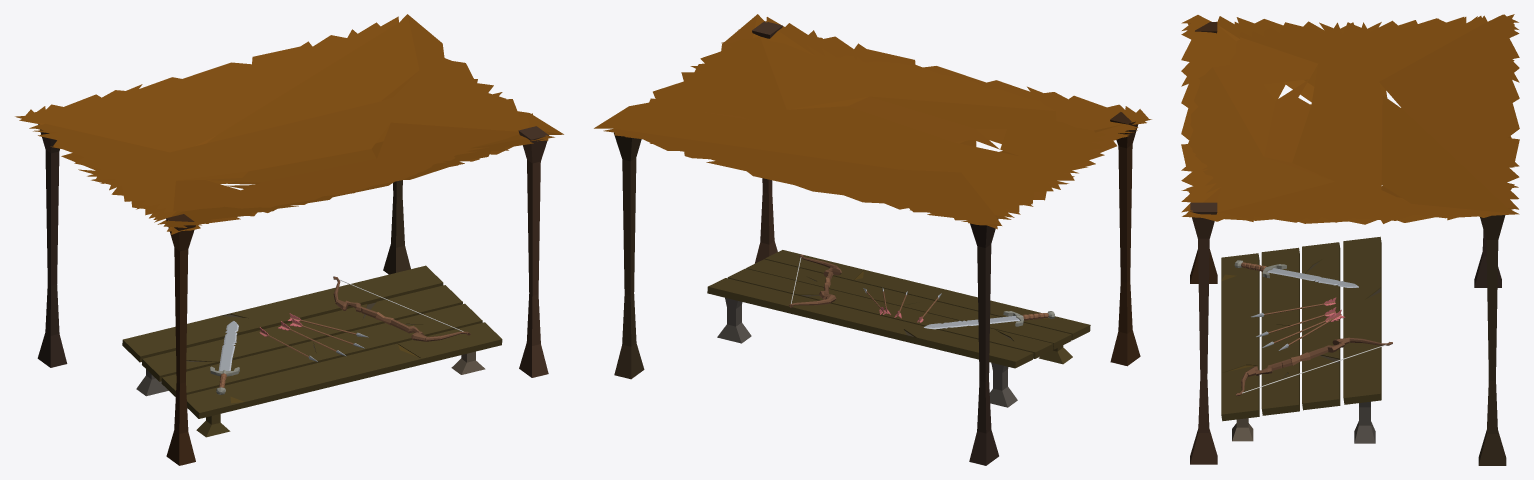
The model's file is ShopkeeperNew2.fbx.
The picture shows the model from 3 angles, left to right: view 1: azimuth 30°, elevation 25°; view 2: azimuth 150°, elevation 25°; view 3: azimuth 270°, elevation 25°; orthographic projection. The views are drawn at different scales.
Visible parts, largest first — view 1: Plane.002, Cube.003, Plane.001, Cube, Cube.001, Cube.004, Cube.002, Bow_Wooden2, Sword; view 2: Plane.002, Cube.003, Plane.001, Cube.002, Cube.001, Cube.004, Cube, Sword, Bow_Wooden2; view 3: Plane.002, Cube.003, Plane.001, Cube, Cube.002, Bow_Wooden2, Sword, Cube.001, Cube.004.
Boxes of the visible parts, left/top/right/bottom form: Plane.002: left=22, top=14, right=548, bottom=234; Cube.003: left=122, top=265, right=502, bottom=437; Plane.001: left=15, top=58, right=563, bottom=227; Cube: left=518, top=126, right=549, bottom=377; Cube.001: left=166, top=214, right=195, bottom=465; Cube.004: left=37, top=124, right=67, bottom=367; Cube.002: left=383, top=180, right=410, bottom=274; Bow_Wooden2: left=333, top=276, right=470, bottom=341; Sword: left=210, top=321, right=239, bottom=394; Plane.002: left=594, top=29, right=1151, bottom=224; Cube.003: left=707, top=250, right=1090, bottom=407; Plane.001: left=614, top=14, right=1148, bottom=229; Cube.002: left=614, top=132, right=644, bottom=379; Cube.001: left=1110, top=112, right=1140, bottom=366; Cube.004: left=969, top=218, right=998, bottom=465; Cube: left=752, top=21, right=782, bottom=263; Sword: left=924, top=311, right=1054, bottom=329; Bow_Wooden2: left=789, top=254, right=841, bottom=307; Plane.002: left=1186, top=14, right=1519, bottom=222; Cube.003: left=1221, top=236, right=1381, bottom=443; Plane.001: left=1181, top=14, right=1514, bottom=224; Cube: left=1190, top=202, right=1217, bottom=464; Cube.002: left=1478, top=215, right=1506, bottom=465; Bow_Wooden2: left=1236, top=337, right=1392, bottom=396; Sword: left=1234, top=260, right=1358, bottom=287; Cube.001: left=1190, top=22, right=1217, bottom=283; Cube.004: left=1474, top=230, right=1501, bottom=287.
Size of the model in its own units: 1492 by 886 by 1042.
